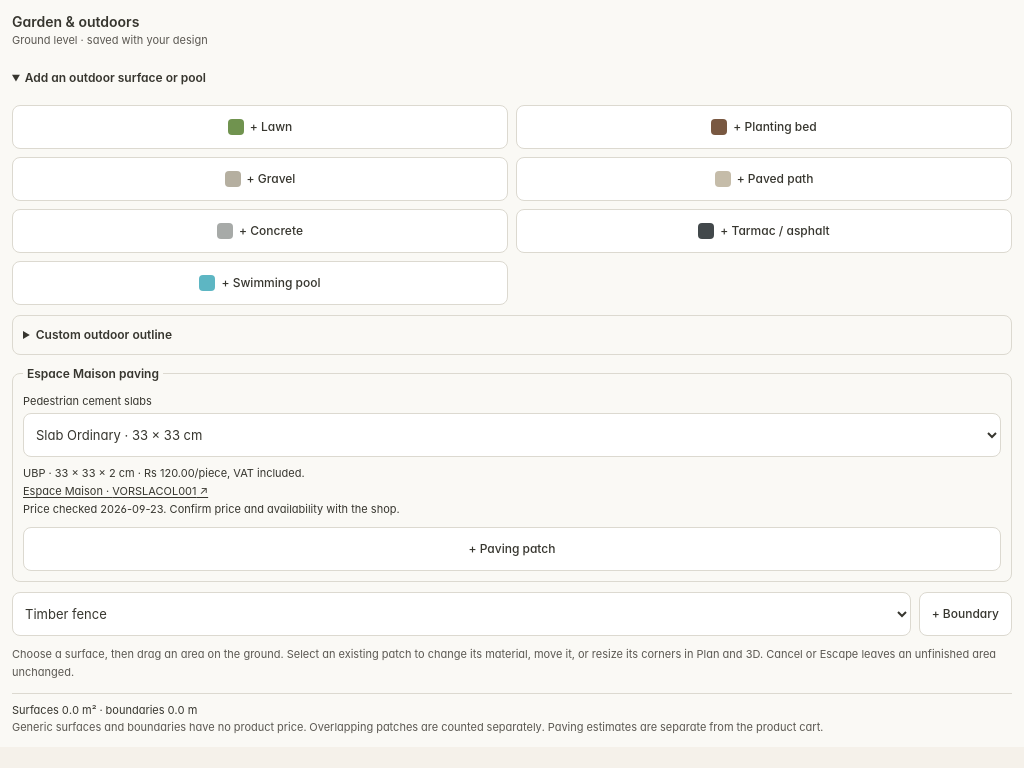
Test: GardenPanel sourced paving › removes product pricing when a patch becomes generic concrete
This screenshot has width=1024, height=768.
Click the button with test id "garden-add-paving" at (512, 549), box [23,527,1001,571]
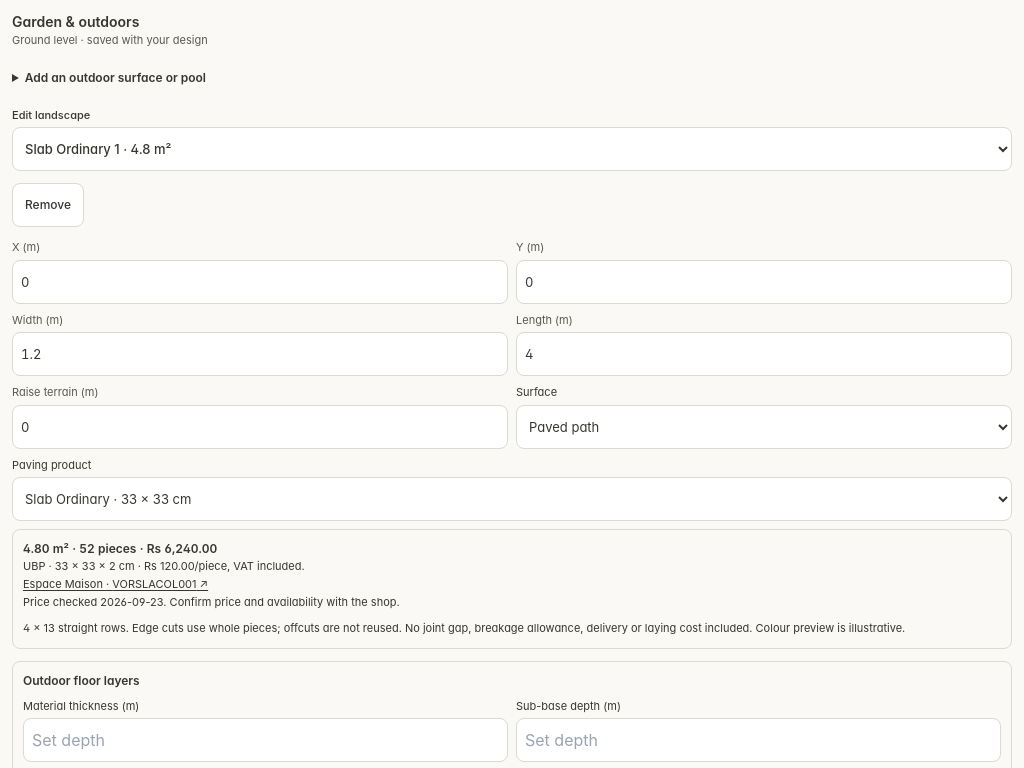
Select "Concrete" in the dropdown named "Surface material" at (764, 426), box [516,404,1012,448]
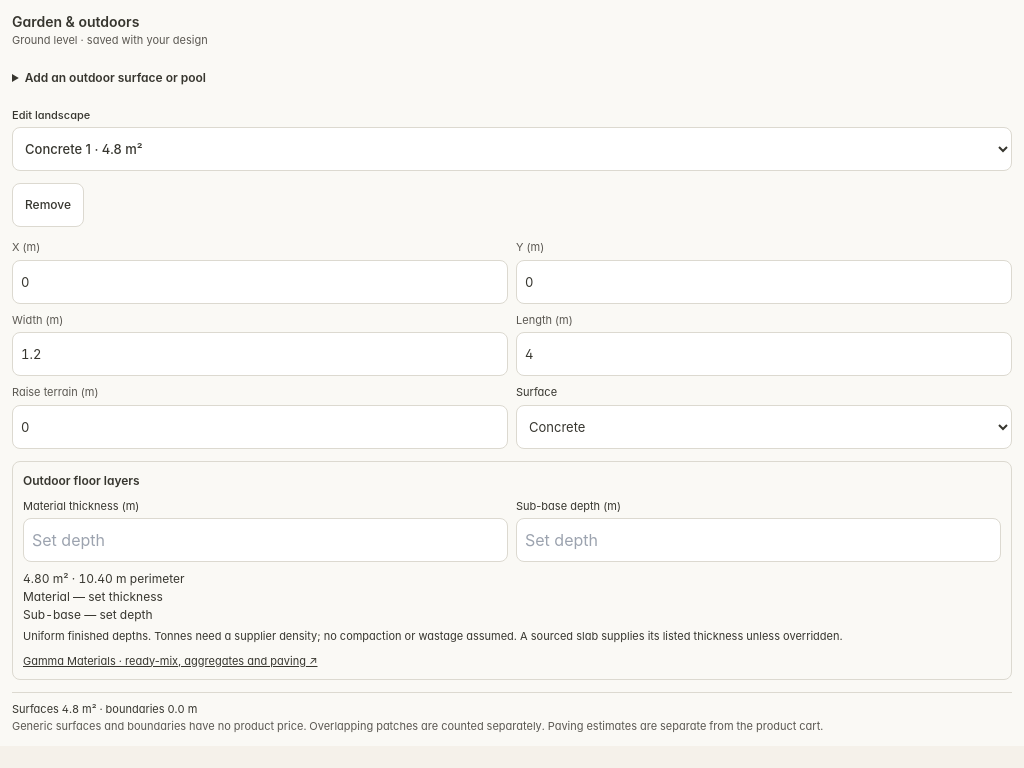
Check: the element with test id "garden-paving-estimate" is gone
